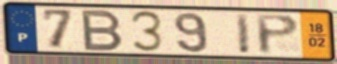3: (129, 9, 165, 54)
7: (42, 8, 76, 51)
9: (171, 11, 211, 54)
B: (81, 8, 126, 52)
I: (234, 12, 253, 56)
P: (254, 13, 302, 56)
